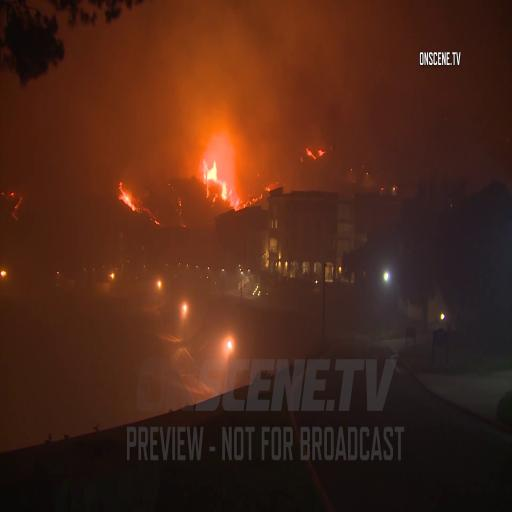fire: (202, 158, 221, 193)
